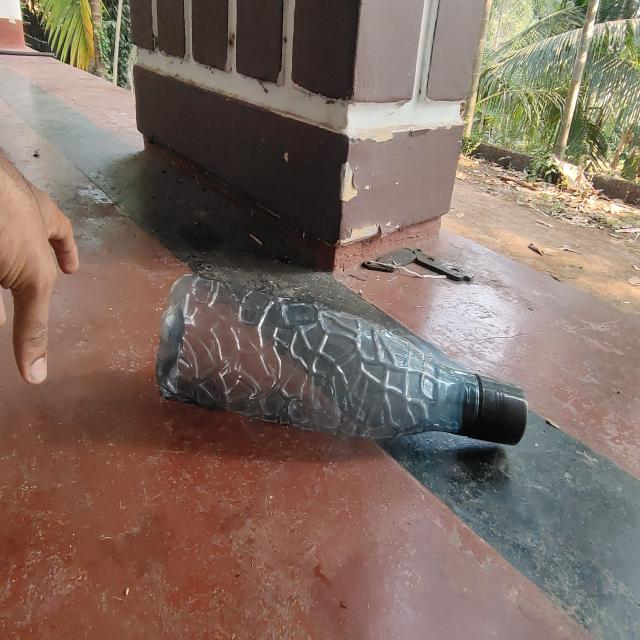plastic: (153, 269, 532, 451)
